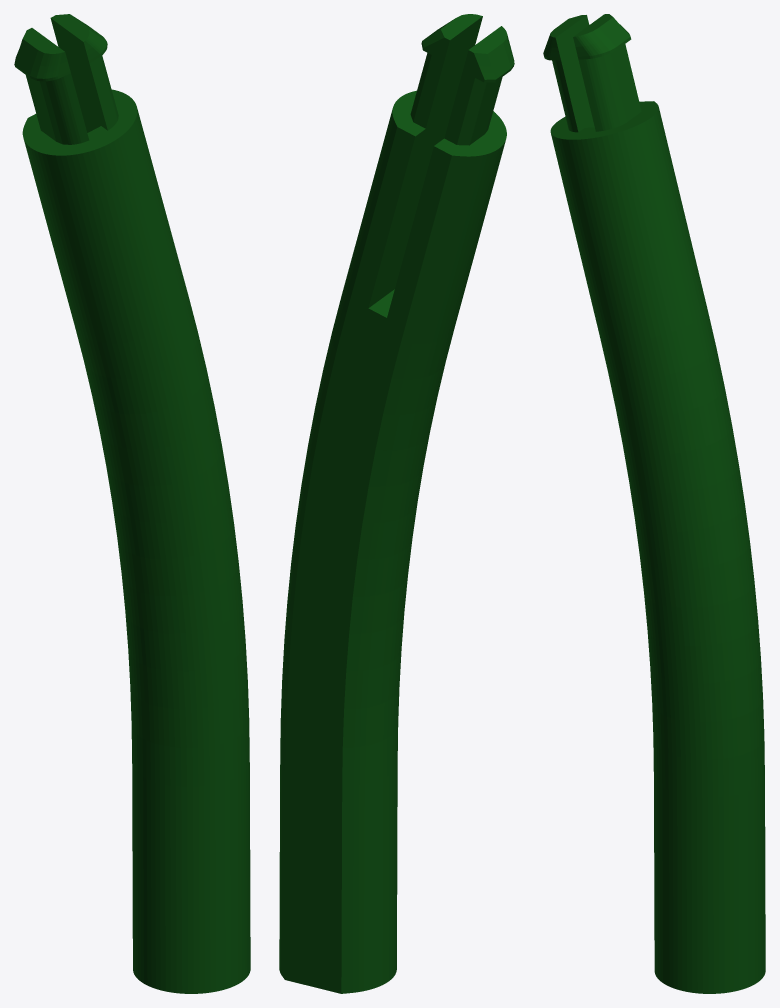
File: stem_1A_15_L.glb
3 views of the same model, side by side, from view 1: azimuth 30°, elevation 25°; view 2: azimuth 150°, elevation 25°; view 3: azimuth 330°, elevation 25° (orthographic). The views are drawn at different scales.
Parts seen in each view (by area): view 1: stem_1A_15L; view 2: stem_1A_15L; view 3: stem_1A_15L.
Part boxes in pixels (x1,y1,x2,y2): stem_1A_15L: (14,14,250,993); stem_1A_15L: (279,14,514,993); stem_1A_15L: (543,14,765,993).
Size of the model in its own units: 0.0154 by 0.0658 by 0.00666.
